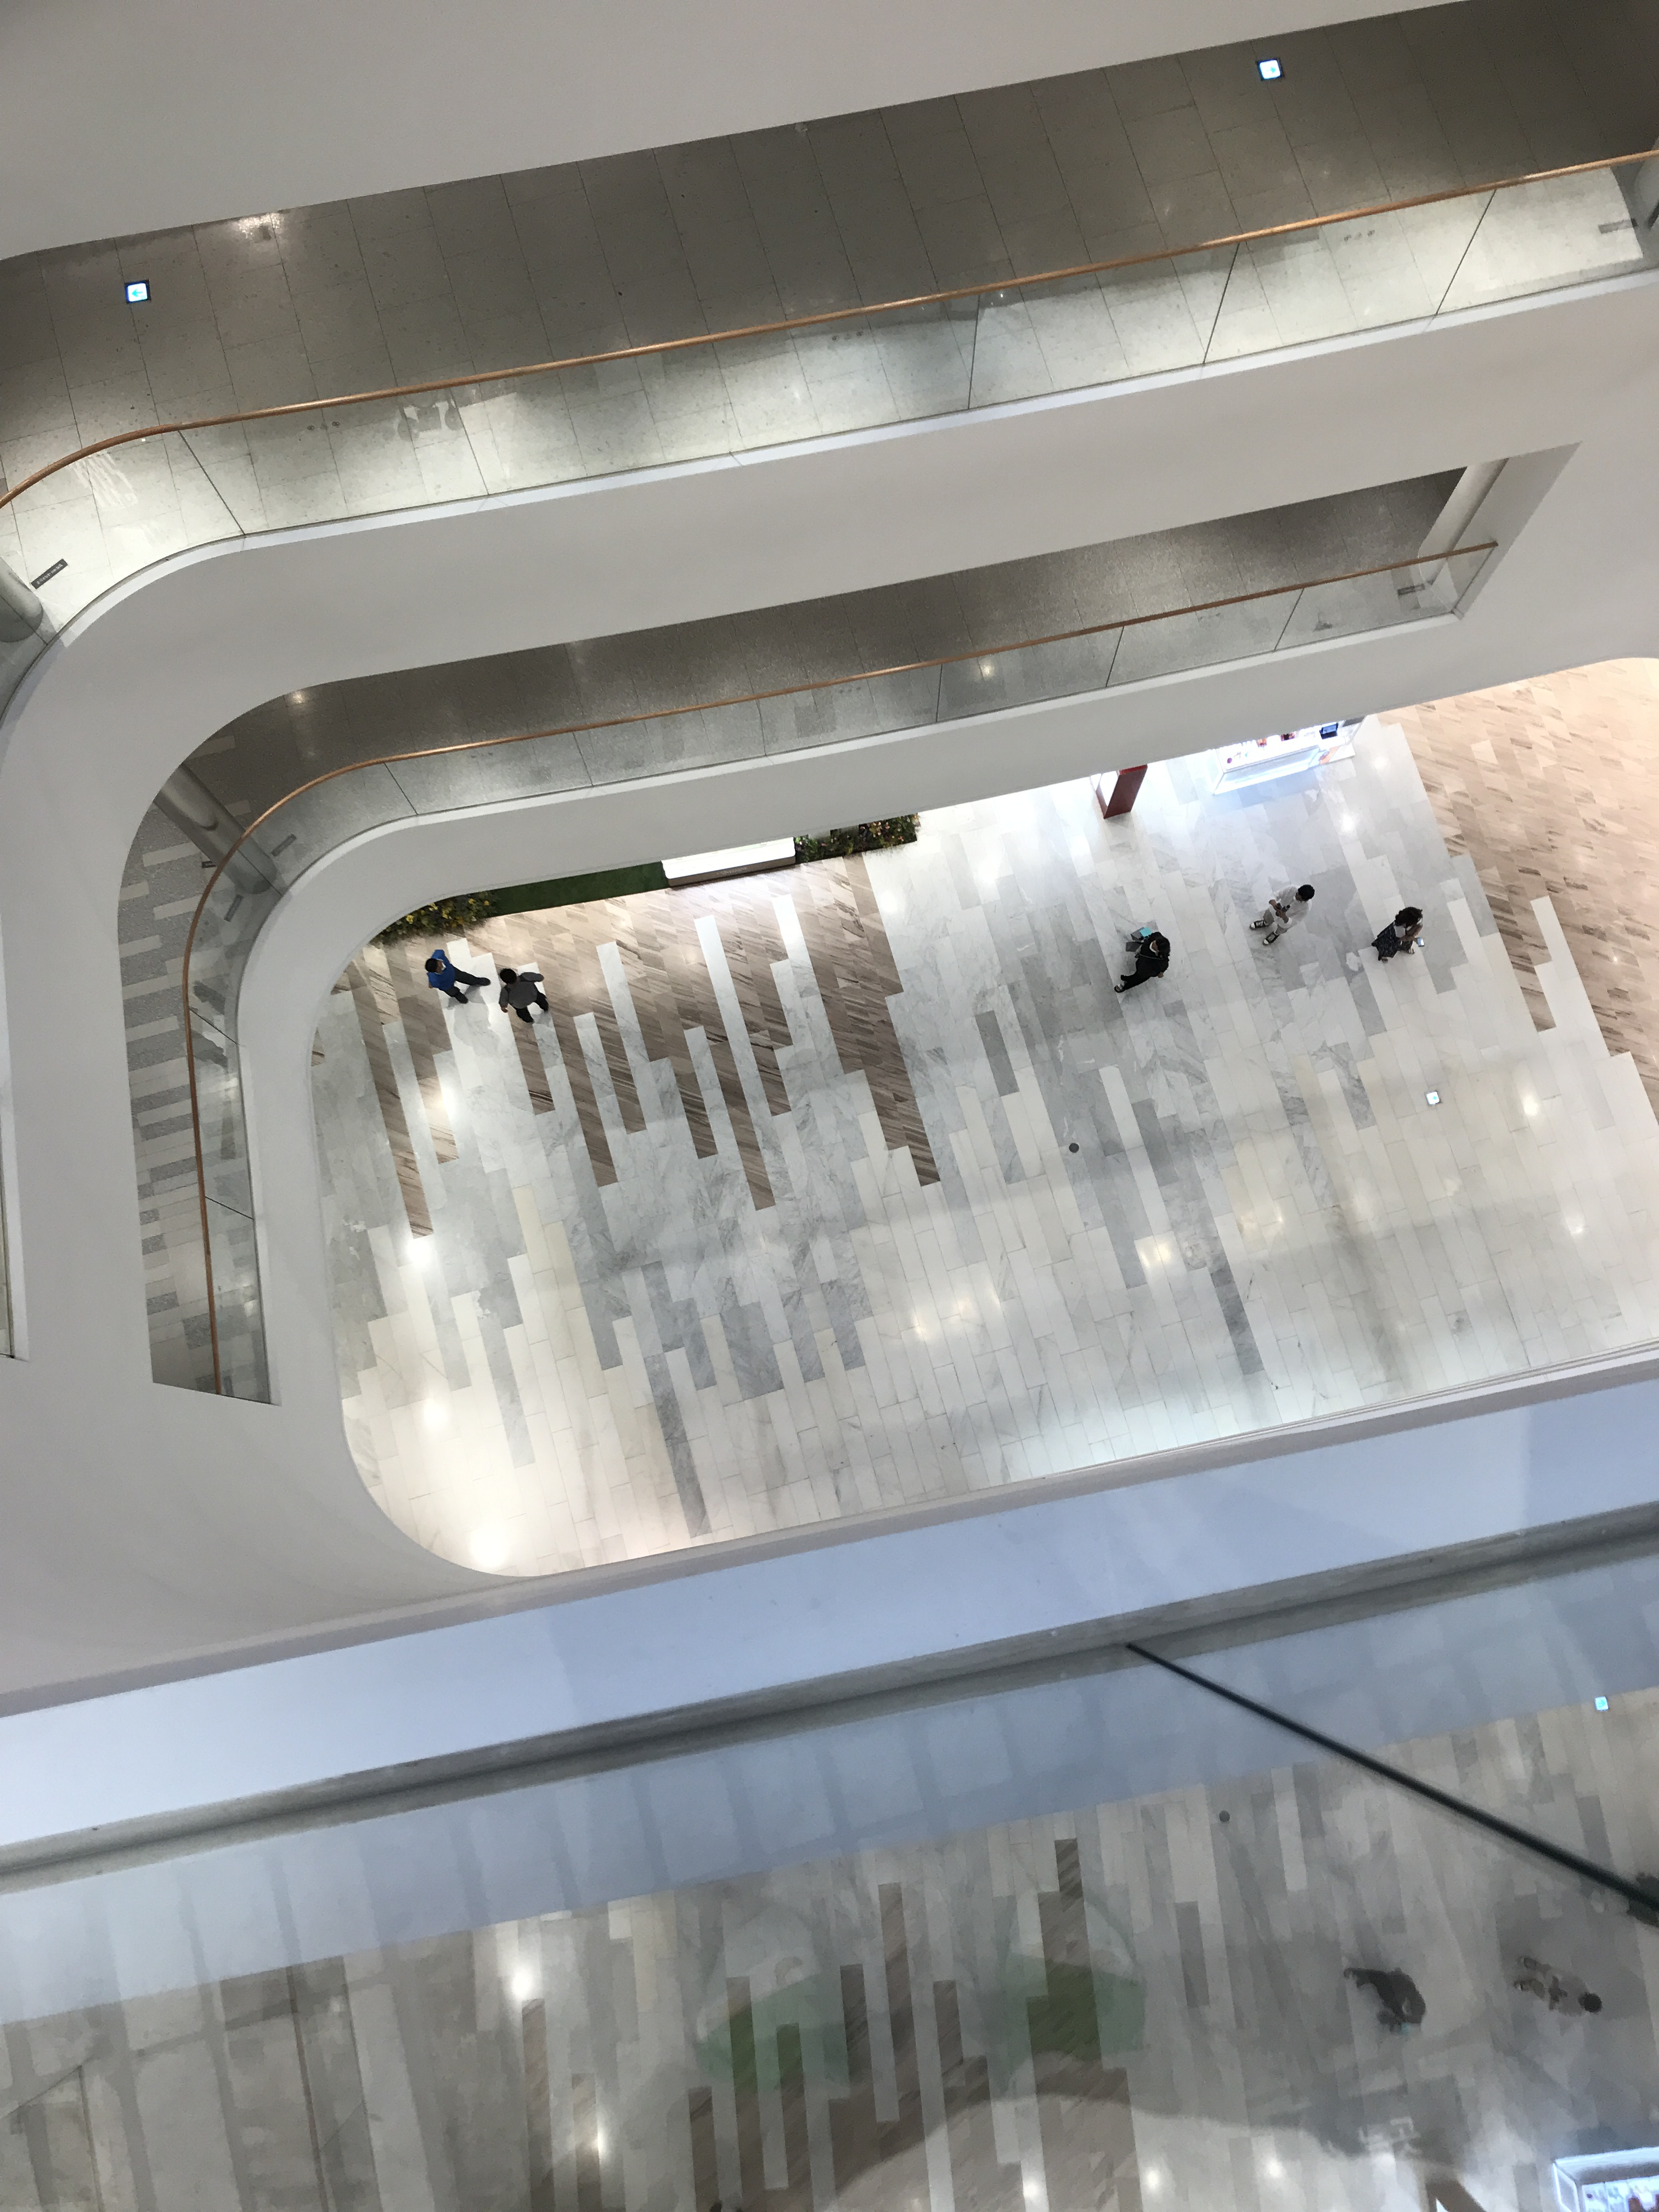person: (1249, 884, 1312, 948), (1114, 924, 1172, 992), (425, 950, 489, 1003), (1374, 906, 1424, 964), (499, 968, 549, 1024)
